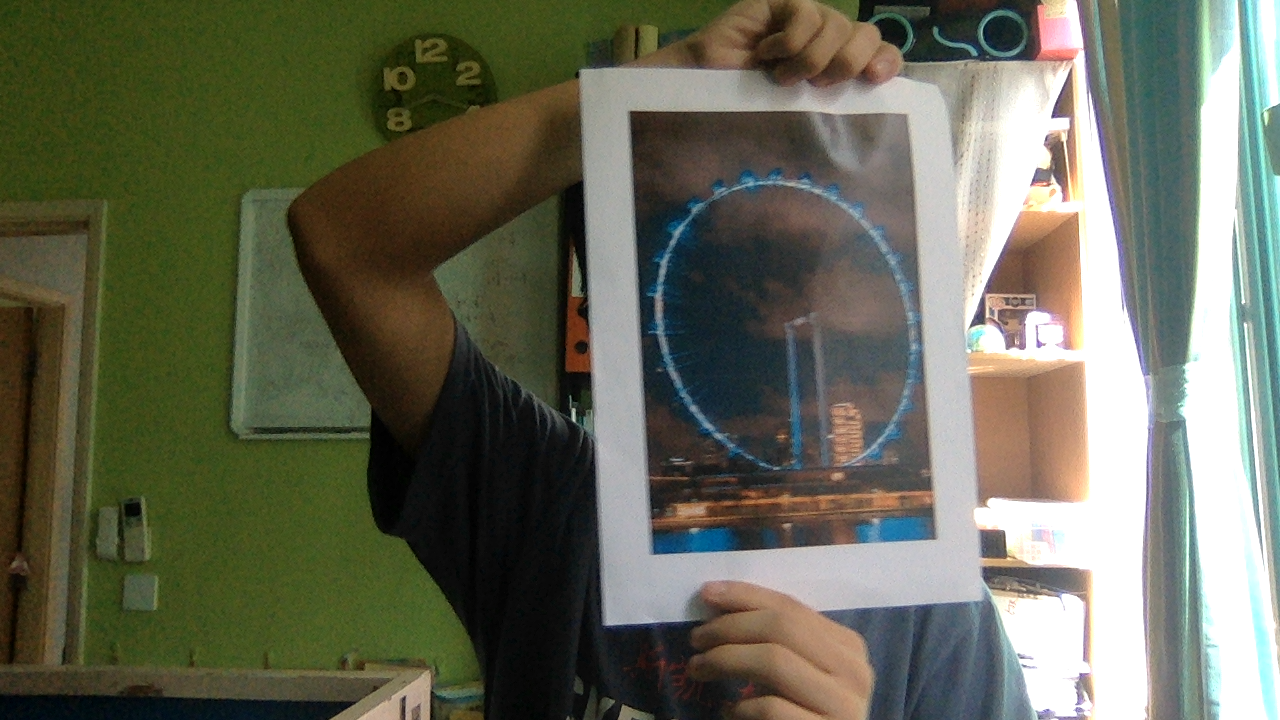Flyer: (623, 104, 947, 546)
